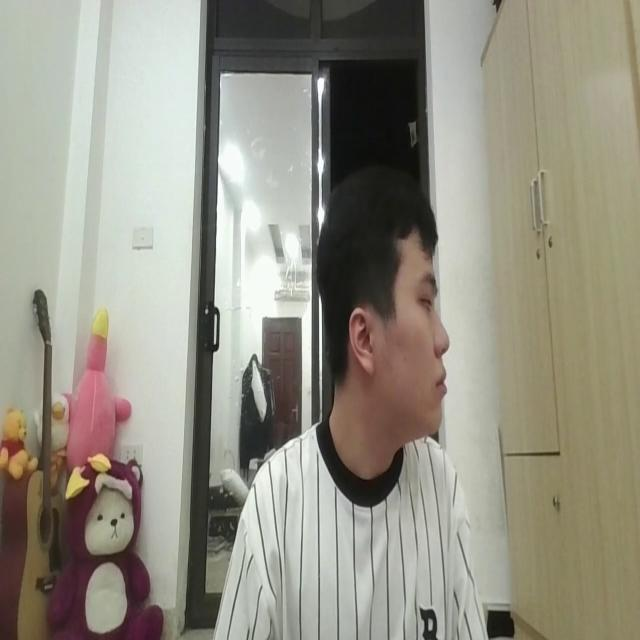student: (206, 159, 483, 640)
